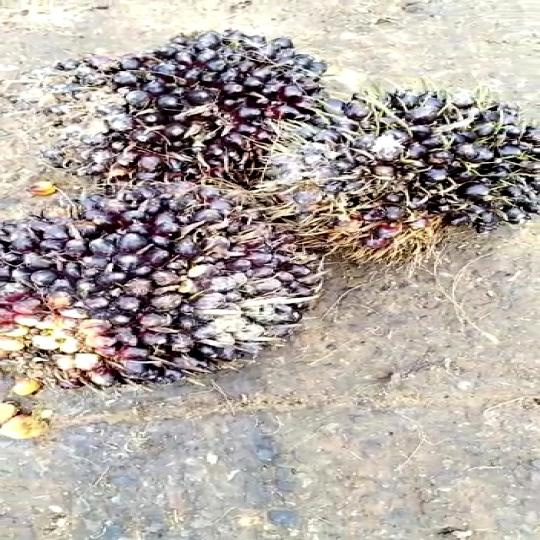mentah: (0, 193, 344, 388), (280, 81, 540, 273), (38, 16, 303, 200)
